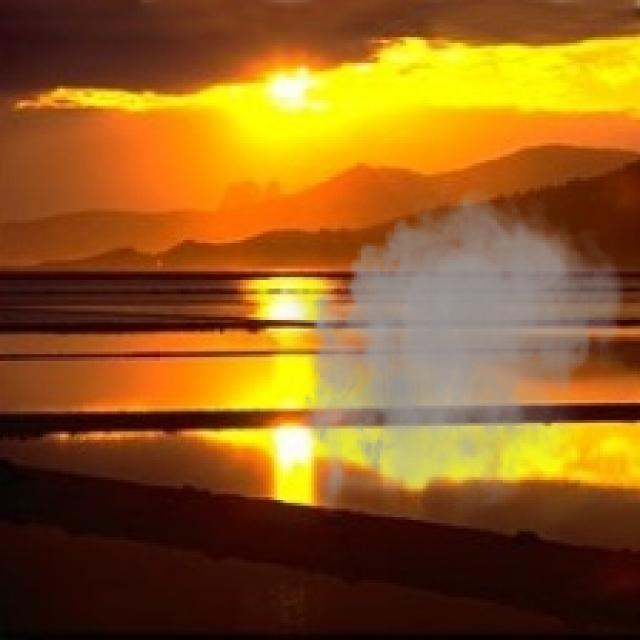smoke: (286, 177, 634, 526)
